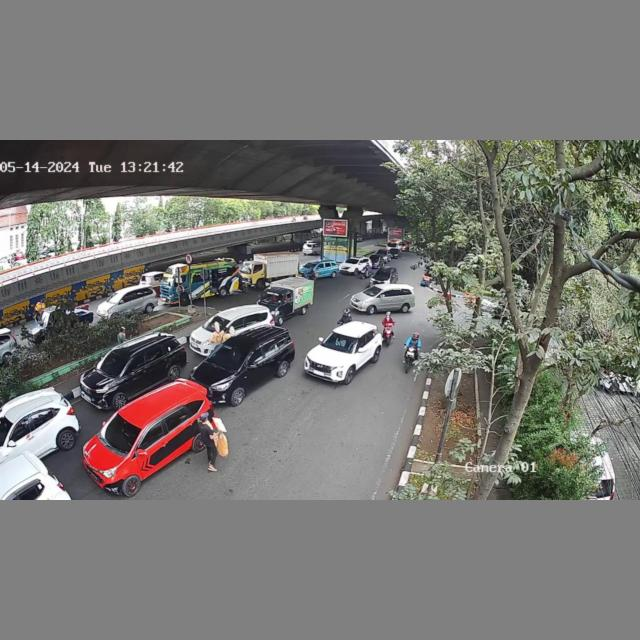windshield: (99, 412, 140, 454), (209, 342, 247, 368), (99, 350, 126, 377), (325, 331, 356, 353)
